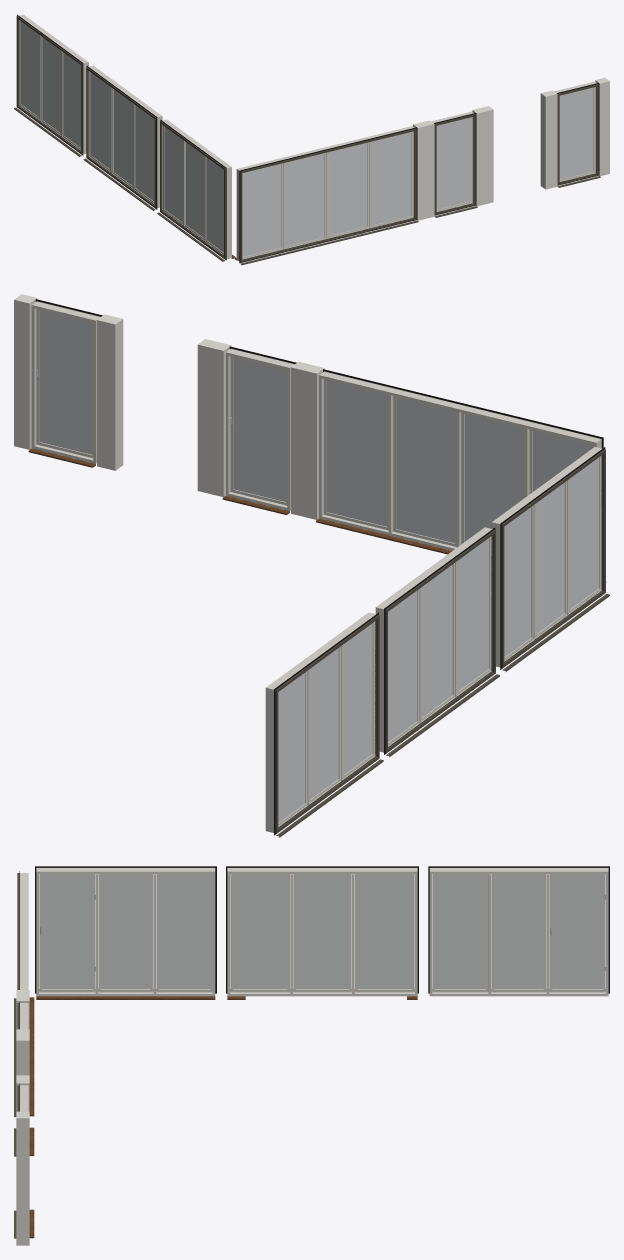
File: real-home-windows.glb
3 renders of one model, top to bottom at view 1: azimuth 30°, elevation 25°; view 2: azimuth 150°, elevation 25°; view 3: azimuth 270°, elevation 25°, orthographic. The views are drawn at different scales.
Visible parts, largest first — view 1: SUB01_RealWindow_FrontWest_Glass_0_0, SUB01_RealWindow_FrontWest_Glass_3_0, SUB01_RealWindow_FrontWest_Glass_1_0, SUB01_RealWindow_FrontWest_Glass_2_0, SUB01_RealWindow_FrontMiddle_Glass_0_0, SUB01_RealWindow_FrontEast_Glass_0_0, SUB01_RealWindow_FacadePier_0, SUB01_RealWindow_FacadePier_1, SUB01_RealWindow_FacadePier_2, SUB01_RealWindow_WestMiddleTV_Glass_0_0, SUB01_RealWindow_WestMiddleTV_Glass_1_0, SUB01_RealWindow_FrontWest_ExteriorCladding (+27 smaller); view 2: SUB01_RealWindow_FrontWest_Glass_3_2, SUB01_RealWindow_FrontWest_Glass_2_2, SUB01_RealWindow_FrontEast_Glass_0_2, SUB01_RealWindow_FrontMiddle_Glass_0_2, SUB01_RealWindow_FrontWest_Glass_1_2, SUB01_RealWindow_FacadePier_1, SUB01_RealWindow_FacadePier_0, SUB01_RealWindow_FacadePier_2, SUB01_RealWindow_WestMiddleTV_Glass_2_0, SUB01_RealWindow_WestMiddleTV_Glass_0_0, SUB01_RealWindow_WestMiddleTV_Glass_1_0, SUB01_RealWindow_WestSouth_Glass_2_0 (+28 smaller); view 3: SUB01_RealWindow_WestMiddleTV_Glass_0_2, SUB01_RealWindow_WestMiddleTV_Glass_2_2, SUB01_RealWindow_WestMiddleTV_Glass_1_2, SUB01_RealWindow_WestSouth_Glass_0_2, SUB01_RealWindow_WestSouth_Glass_2_2, SUB01_RealWindow_WestNorth_Glass_0_2, SUB01_RealWindow_WestNorth_Glass_2_2, SUB01_RealWindow_WestSouth_Glass_1_2, SUB01_RealWindow_WestNorth_Glass_1_2, SUB01_RealWindow_WestMiddleTV_TimberMainframe, SUB01_RealWindow_WestNorth_TimberMainframe, SUB01_RealWindow_WestSouth_TimberMainframe (+17 smaller).
Boxes of the visible parts, left/top/right/bottom form: SUB01_RealWindow_FrontWest_Glass_0_0: left=243, top=164, right=281, bottom=256; SUB01_RealWindow_FrontWest_Glass_3_0: left=373, top=132, right=411, bottom=224; SUB01_RealWindow_FrontWest_Glass_1_0: left=287, top=154, right=324, bottom=246; SUB01_RealWindow_FrontWest_Glass_2_0: left=330, top=143, right=367, bottom=235; SUB01_RealWindow_FrontMiddle_Glass_0_0: left=437, top=118, right=470, bottom=209; SUB01_RealWindow_FrontEast_Glass_0_0: left=560, top=88, right=593, bottom=179; SUB01_RealWindow_FacadePier_0: left=413, top=120, right=434, bottom=220; SUB01_RealWindow_FacadePier_1: left=472, top=106, right=493, bottom=206; SUB01_RealWindow_FacadePier_2: left=540, top=90, right=557, bottom=189; SUB01_RealWindow_WestMiddleTV_Glass_0_0: left=90, top=72, right=109, bottom=168; SUB01_RealWindow_WestMiddleTV_Glass_1_0: left=113, top=89, right=132, bottom=185; SUB01_RealWindow_FrontWest_ExteriorCladding: left=240, top=128, right=416, bottom=262; SUB01_RealWindow_FrontWest_Glass_3_2: left=327, top=381, right=387, bottom=526; SUB01_RealWindow_FrontWest_Glass_2_2: left=396, top=398, right=455, bottom=543; SUB01_RealWindow_FrontEast_Glass_0_2: left=39, top=311, right=92, bottom=454; SUB01_RealWindow_FrontMiddle_Glass_0_2: left=233, top=358, right=286, bottom=501; SUB01_RealWindow_FrontWest_Glass_1_2: left=464, top=414, right=523, bottom=541; SUB01_RealWindow_FacadePier_1: left=197, top=339, right=231, bottom=497; SUB01_RealWindow_FacadePier_0: left=291, top=361, right=324, bottom=519; SUB01_RealWindow_FacadePier_2: left=97, top=314, right=123, bottom=470; SUB01_RealWindow_WestMiddleTV_Glass_2_0: left=458, top=538, right=488, bottom=690; SUB01_RealWindow_WestMiddleTV_Glass_0_0: left=388, top=590, right=417, bottom=742; SUB01_RealWindow_WestMiddleTV_Glass_1_0: left=423, top=565, right=452, bottom=716; SUB01_RealWindow_WestSouth_Glass_2_0: left=344, top=623, right=372, bottom=774; SUB01_RealWindow_WestMiddleTV_Glass_0_2: left=357, top=875, right=411, bottom=989; SUB01_RealWindow_WestMiddleTV_Glass_2_2: left=233, top=875, right=287, bottom=989; SUB01_RealWindow_WestMiddleTV_Glass_1_2: left=296, top=875, right=348, bottom=989; SUB01_RealWindow_WestSouth_Glass_0_2: left=552, top=875, right=602, bottom=989; SUB01_RealWindow_WestSouth_Glass_2_2: left=435, top=875, right=485, bottom=989; SUB01_RealWindow_WestNorth_Glass_0_2: left=159, top=875, right=209, bottom=989; SUB01_RealWindow_WestNorth_Glass_2_2: left=42, top=875, right=92, bottom=989; SUB01_RealWindow_WestSouth_Glass_1_2: left=494, top=875, right=543, bottom=989; SUB01_RealWindow_WestNorth_Glass_1_2: left=101, top=875, right=150, bottom=989; SUB01_RealWindow_WestMiddleTV_TimberMainframe: left=227, top=868, right=417, bottom=996; SUB01_RealWindow_WestNorth_TimberMainframe: left=36, top=868, right=215, bottom=996; SUB01_RealWindow_WestSouth_TimberMainframe: left=429, top=868, right=608, bottom=996.
Size of the model in its own units: 8.03 by 1.89 by 7.96.
Materials: 7 (1 with a texture image).
